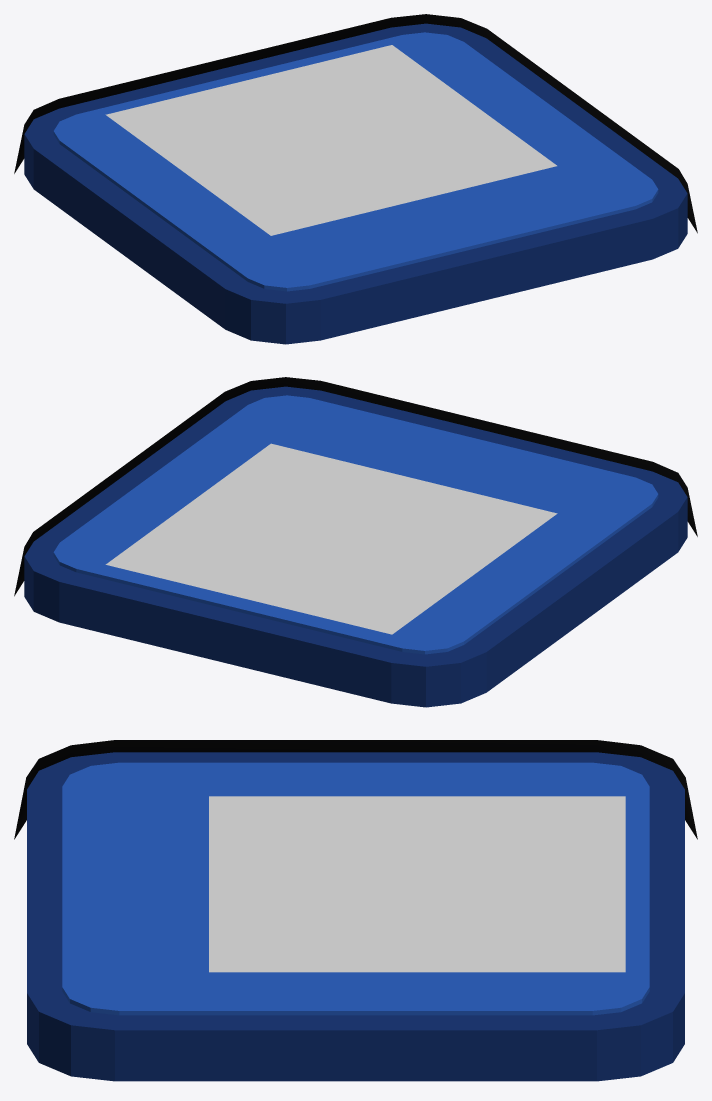
File: BR_Feld_Frage.glb
3 views of the same model, one above another, from view 1: azimuth 30°, elevation 25°; view 2: azimuth 150°, elevation 25°; view 3: azimuth 270°, elevation 25° (orthographic). The views are drawn at different scales.
Parts seen in each view (by area): view 1: BR_Feld_Frage_Mesh, BR_Feld_Frage_Outline; view 2: BR_Feld_Frage_Mesh, BR_Feld_Frage_Outline; view 3: BR_Feld_Frage_Mesh, BR_Feld_Frage_Outline.
Boxes of the visible parts, x1,y1,x2,y2 form: BR_Feld_Frage_Mesh: [24, 23, 687, 344]; BR_Feld_Frage_Outline: [14, 14, 697, 233]; BR_Feld_Frage_Mesh: [24, 386, 687, 707]; BR_Feld_Frage_Outline: [14, 377, 697, 596]; BR_Feld_Frage_Mesh: [27, 752, 684, 1081]; BR_Feld_Frage_Outline: [14, 740, 697, 839].
Size of the model in its own units: 1.56 by 0.1588 by 1.56.
